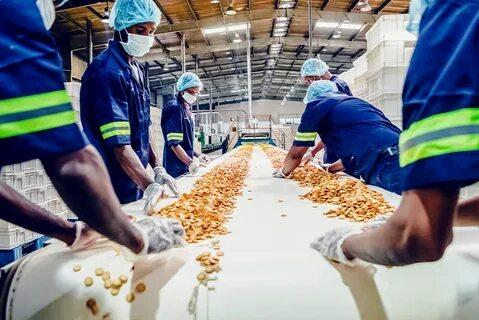hairnet: (100, 0, 175, 41), (176, 73, 211, 95), (297, 63, 344, 79), (306, 84, 342, 102)
mask: (122, 31, 159, 68), (180, 85, 204, 116)
